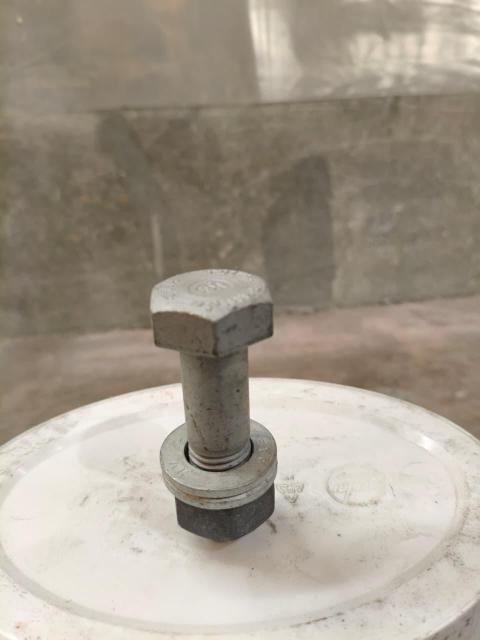Metal: (143, 270, 292, 535)
